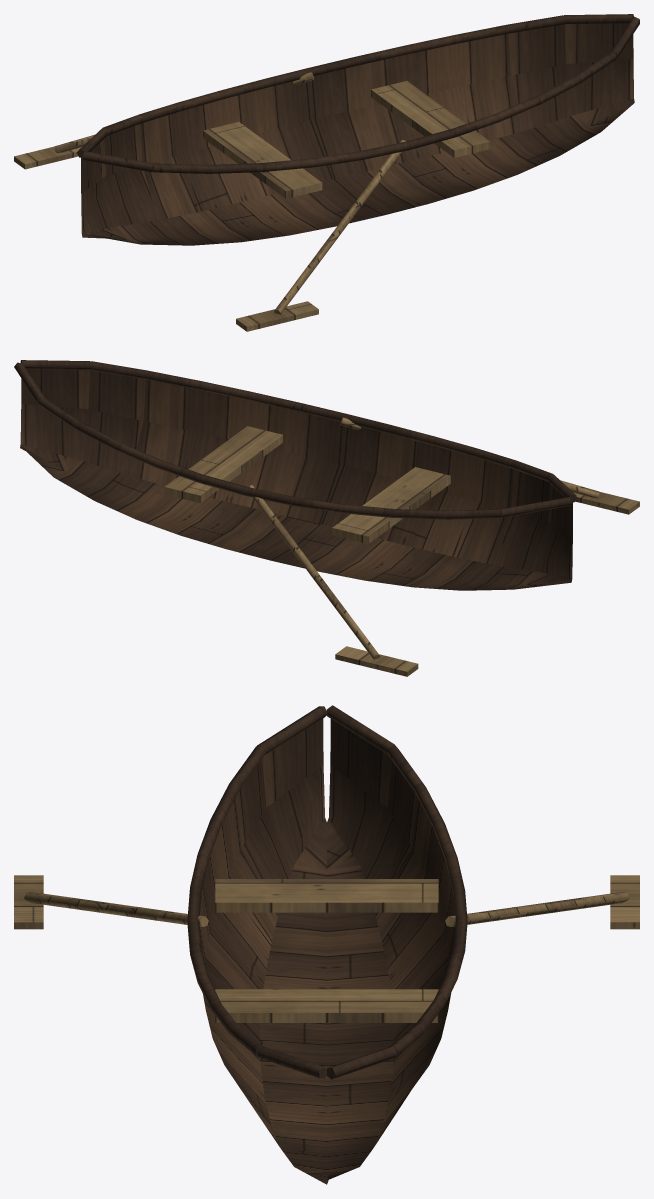
File: boat_row.gltf
The picture shows the model from 3 angles, top to bottom: view 1: azimuth 30°, elevation 25°; view 2: azimuth 150°, elevation 25°; view 3: azimuth 270°, elevation 25°; orthographic projection. The views are drawn at different scales.
Parts seen in each view (by area): view 1: boat_row_mesh; view 2: boat_row_mesh; view 3: boat_row_mesh.
Part boxes in pixels (x1,y1,x2,y2): boat_row_mesh: (14,14,639,331); boat_row_mesh: (14,360,639,676); boat_row_mesh: (14,705,639,1184).
Size of the model in its own units: 4.65 by 0.9381 by 3.36.
3 materials, 3 textured.
